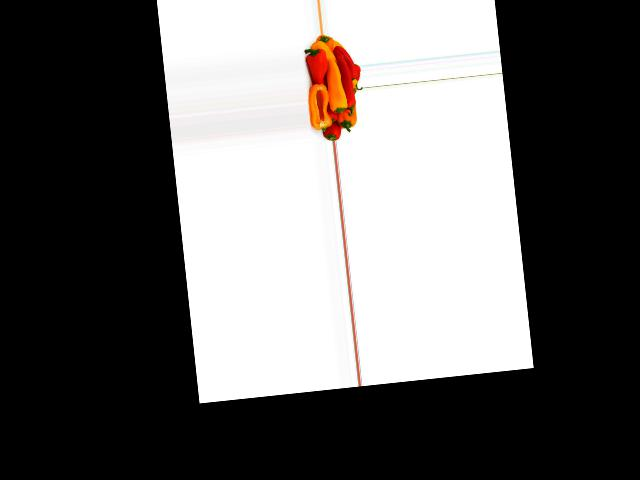bell_pepper: (321, 109, 345, 142)
